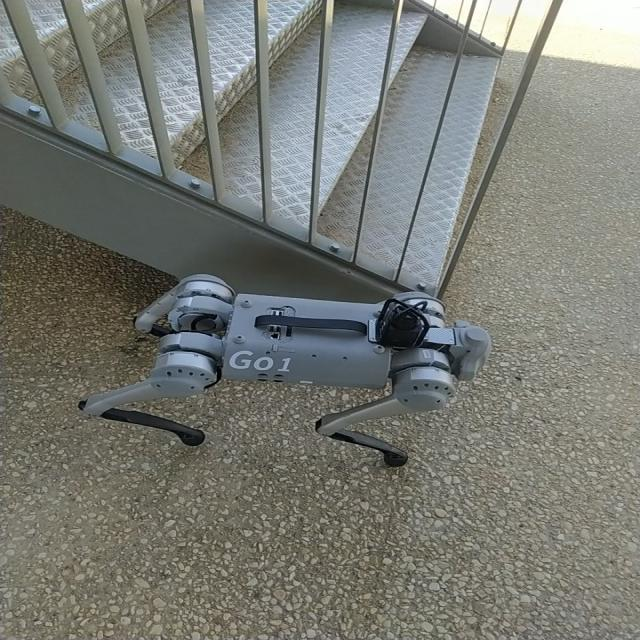unitree-go1-robot: (75, 268, 512, 483)
